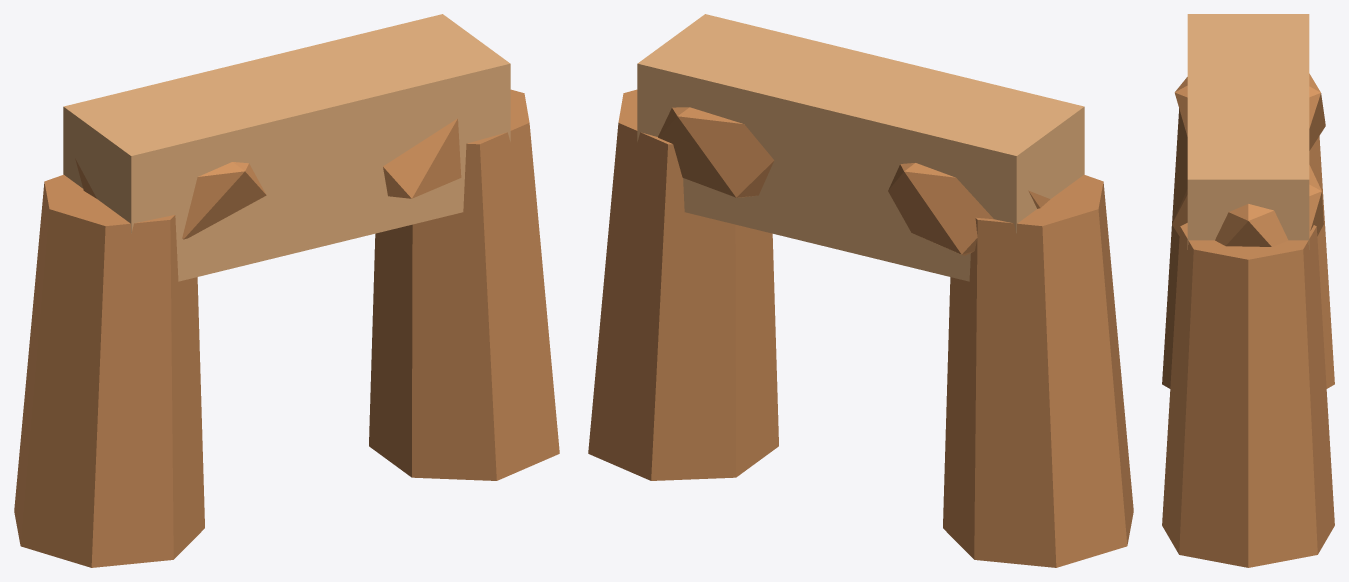
Rendered from sandstone_arch.glb.
3 views of the same model, side by side, from view 1: azimuth 30°, elevation 25°; view 2: azimuth 150°, elevation 25°; view 3: azimuth 270°, elevation 25° (orthographic). The views are drawn at different scales.
Visible parts, largest first — view 1: sandstone_arch__static; view 2: sandstone_arch__static; view 3: sandstone_arch__static.
Boxes of the visible parts, <box> form: sandstone_arch__static: <box>14,14,559,567</box>; sandstone_arch__static: <box>588,14,1133,567</box>; sandstone_arch__static: <box>1162,14,1334,567</box>.
Size of the model in its own units: 5.9 by 4.25 by 1.85.
